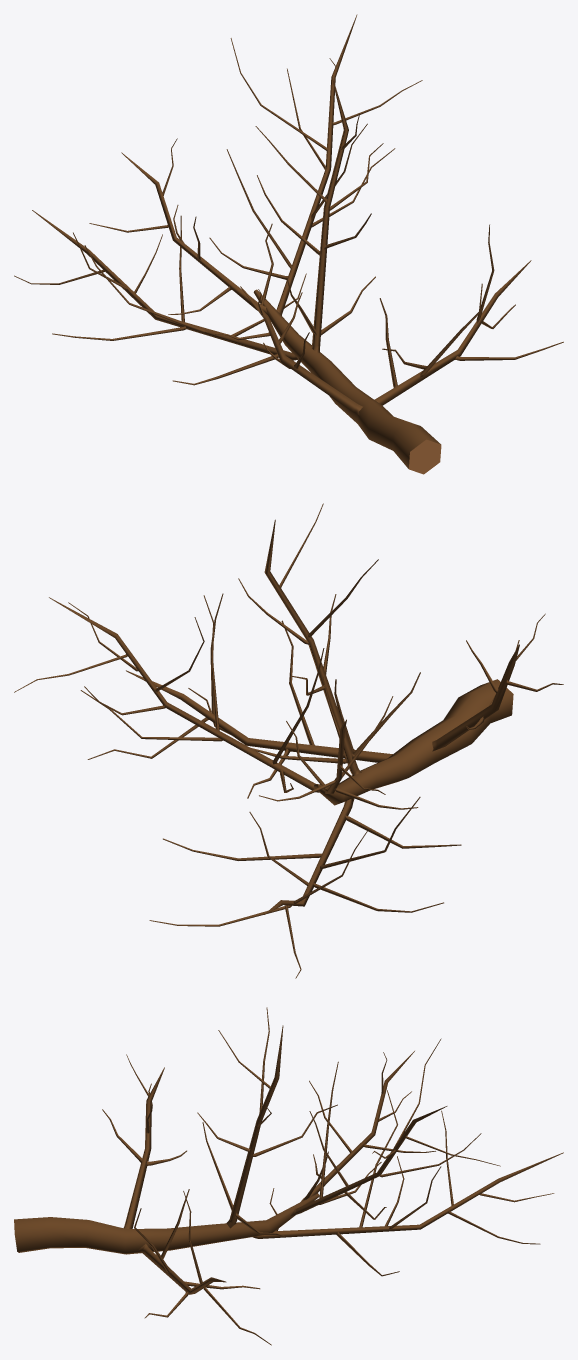
The model's file is Branch_2.glb.
3 renders of one model, top to bottom at view 1: azimuth 30°, elevation 25°; view 2: azimuth 150°, elevation 25°; view 3: azimuth 270°, elevation 25°, orthographic. The views are drawn at different scales.
Parts seen in each view (by area): view 1: Branch_2; view 2: Branch_2; view 3: Branch_2.
Part boxes in pixels (bbox=[...]): Branch_2: bbox=[14, 14, 563, 474]; Branch_2: bbox=[14, 503, 563, 978]; Branch_2: bbox=[14, 1007, 563, 1345].
Size of the model in its own units: 2.97 by 2 by 3.96.
Materials: 1 (1 with a texture image).
